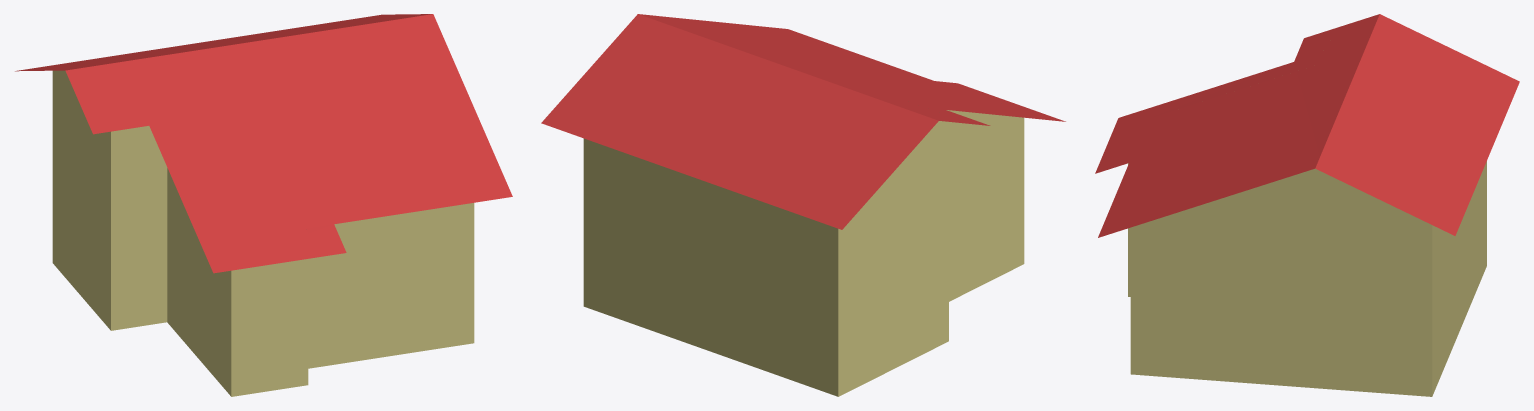
3 views of the same model, side by side, from view 1: azimuth 30°, elevation 25°; view 2: azimuth 150°, elevation 25°; view 3: azimuth 270°, elevation 25° (orthographic). The views are drawn at different scales.
Size of the model in its own units: 14.18 by 14.91 by 8.97.
